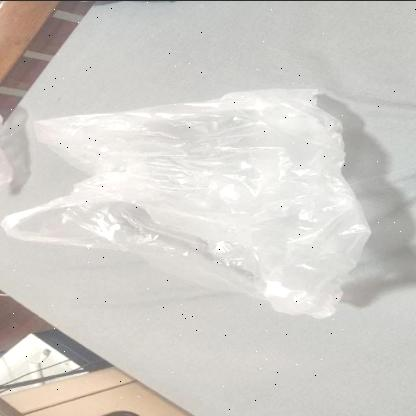Others: (6, 87, 372, 321)
